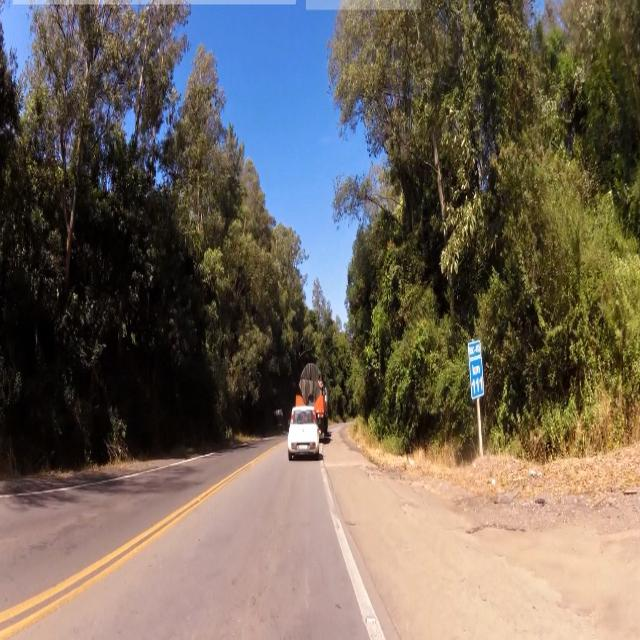RQ: (467, 340, 487, 402)
